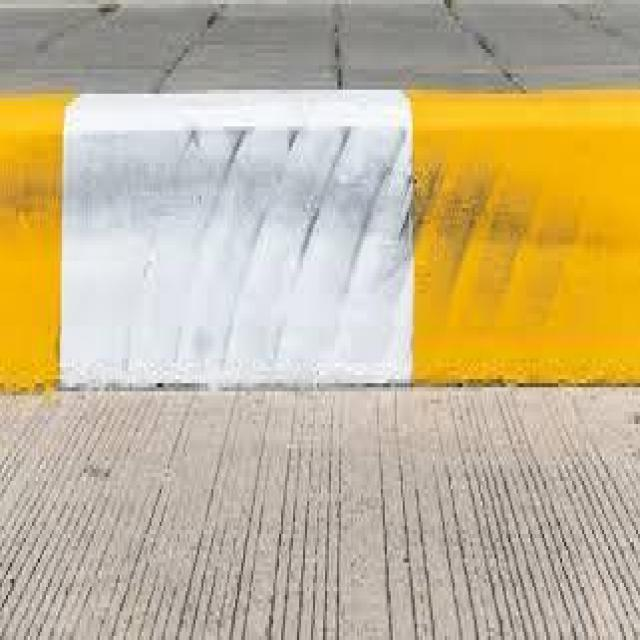curb: (1, 73, 627, 391)
